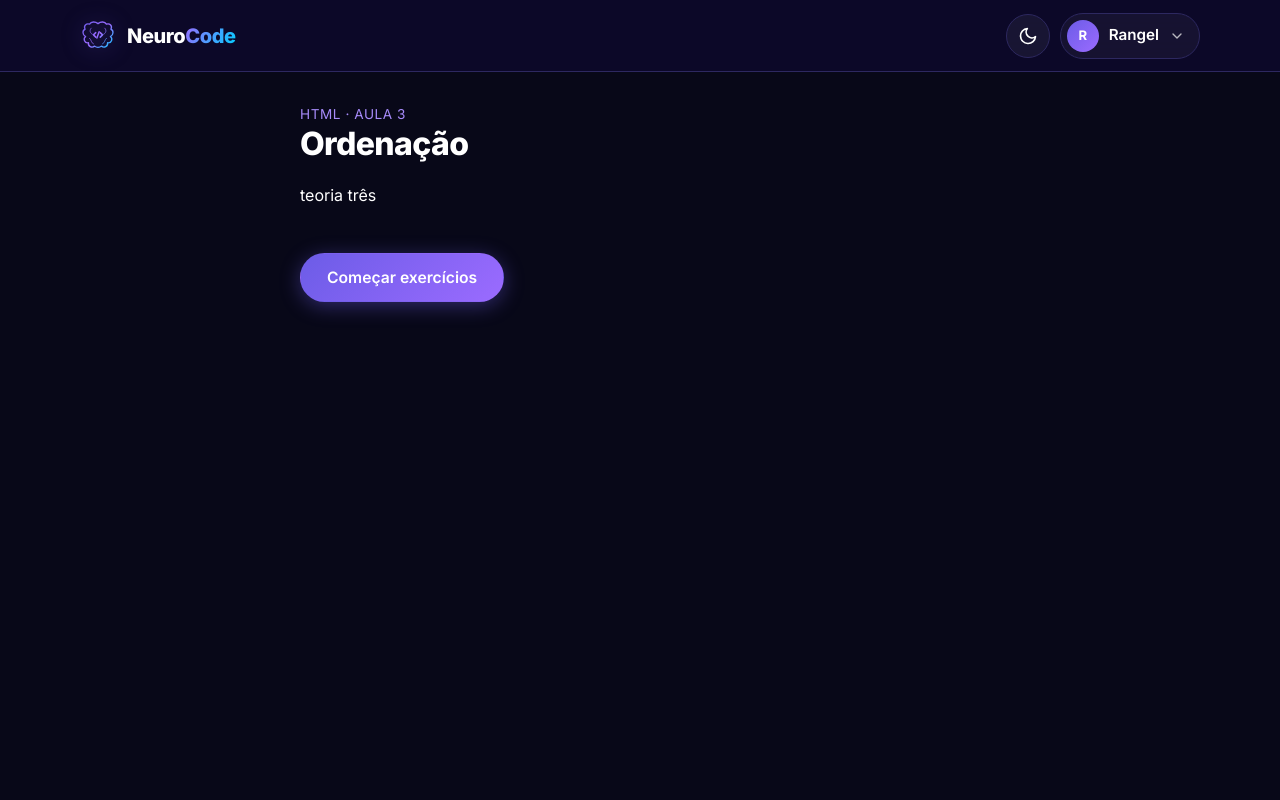
Test case: Tela de Aula — sessão de exercícios › order-lines renderiza as linhas mesmo após um fill-blank (regressão: estado do card não vaza)
The image size is (1280, 800).
Click the button "Começar exercícios".
click(402, 278)  # box [300,253,504,302]
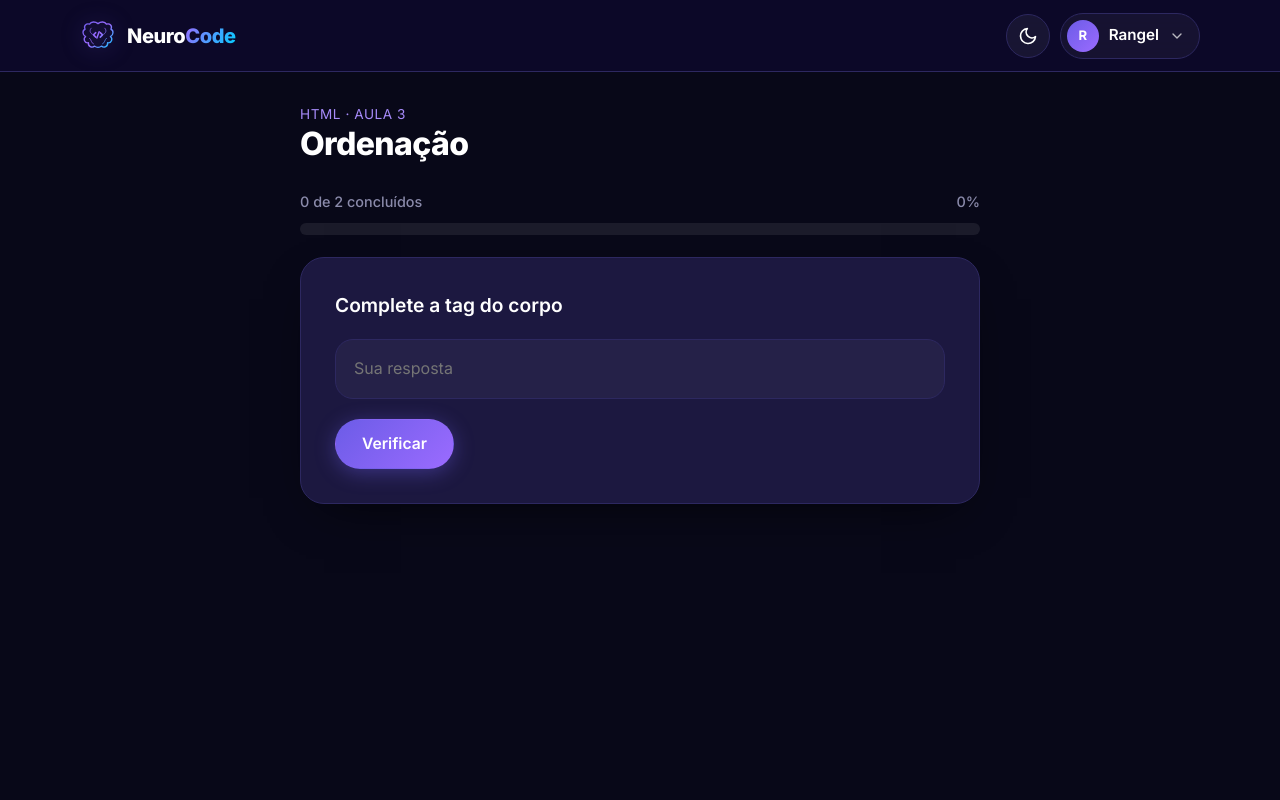
Note: 1º exercício: fill-blank (options: []) — responde e avança
Type "body" into the field with placeholder "Sua resposta".
click(640, 369); type("body")  # box [335,340,945,399]
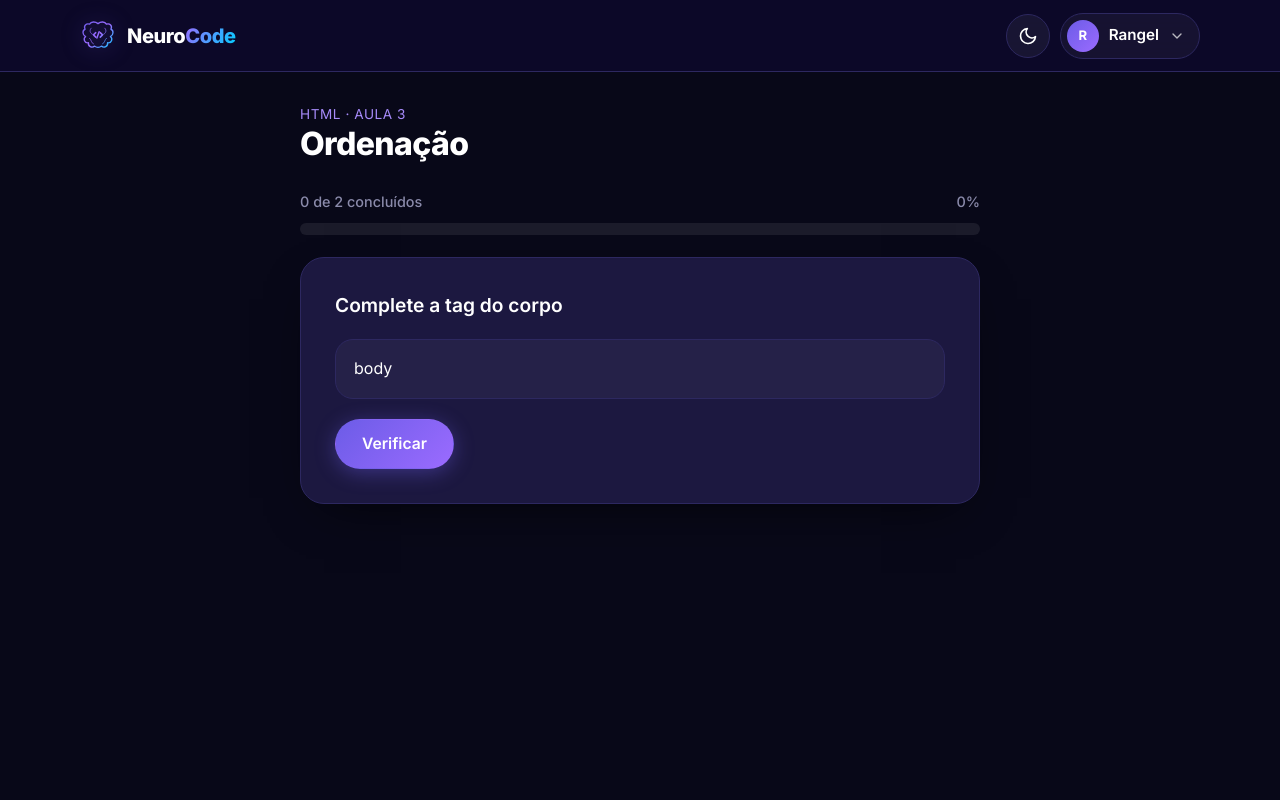
Click the button "Verificar".
click(394, 444)  # box [335,419,454,469]
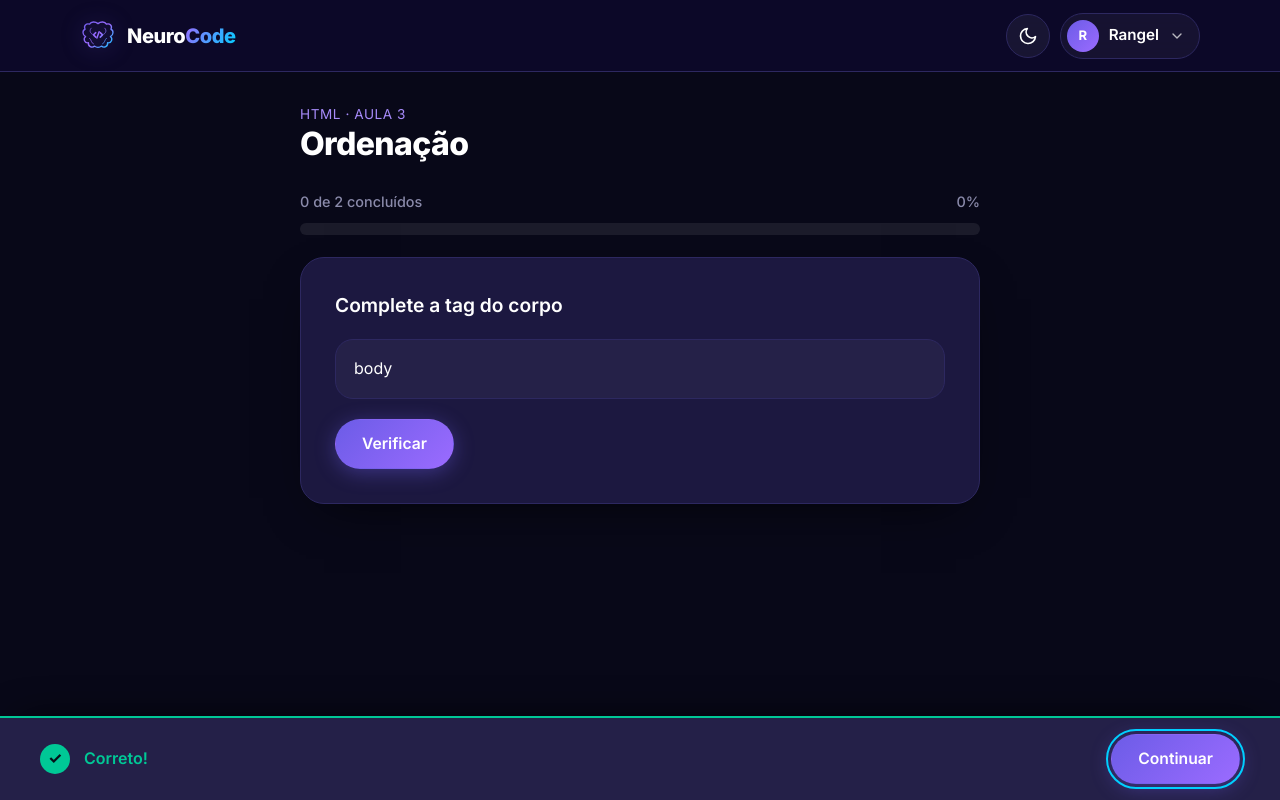
Click the button "Continuar".
click(1176, 759)  # box [1111,734,1240,784]
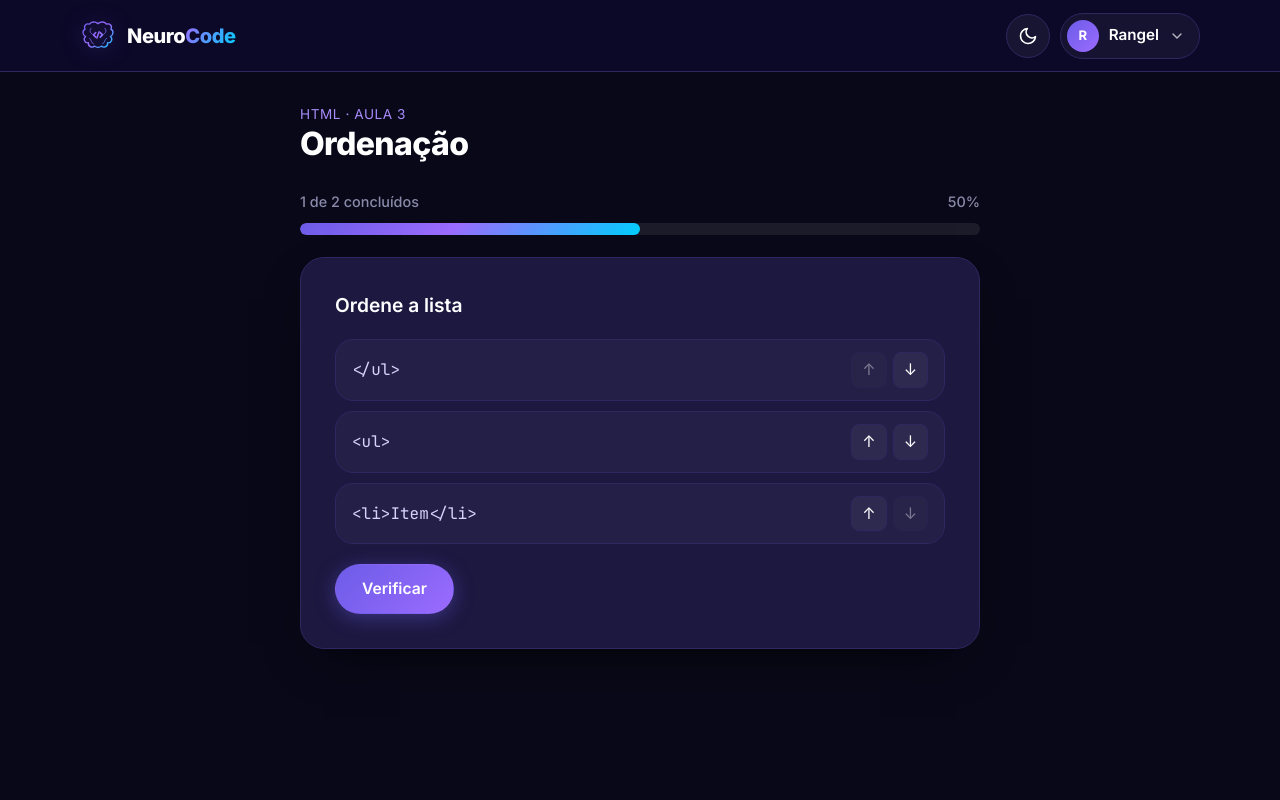
Check: the text "<ul>" is shown, box [352,429,390,455]
Check: the text "<li>Item</li>" is shown, box [352,501,477,526]
